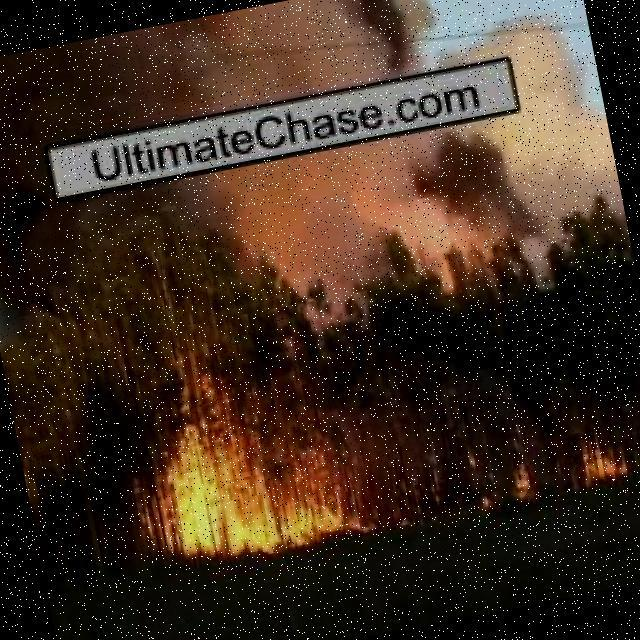Fire: (159, 421, 361, 567), (577, 435, 632, 486), (503, 460, 543, 504)
